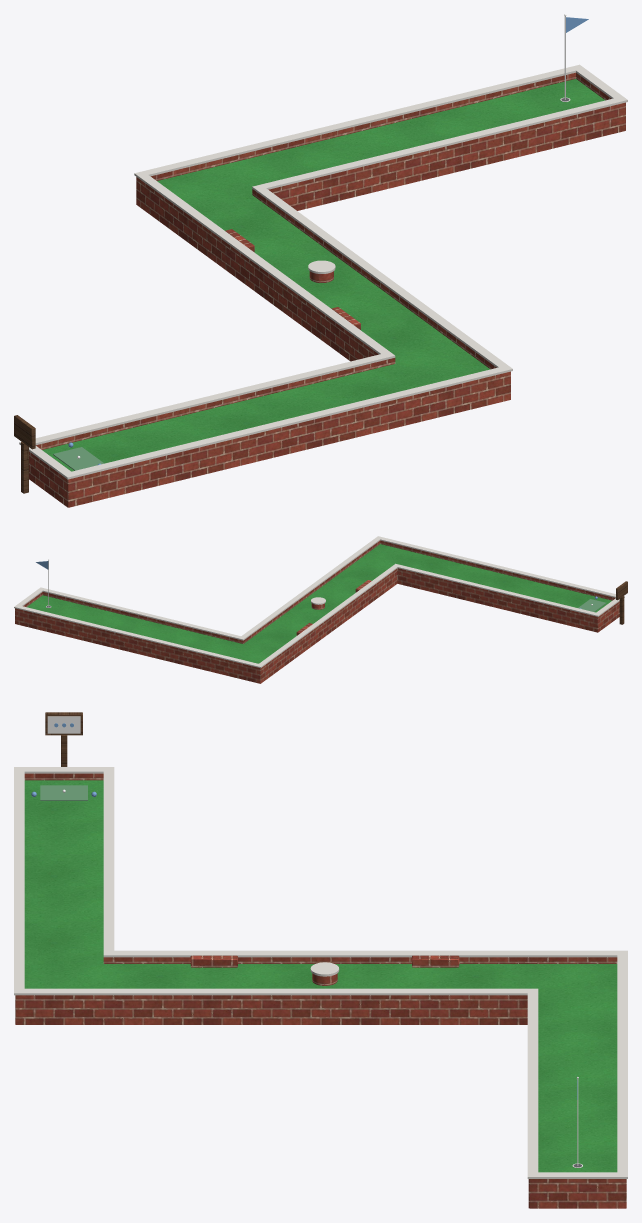
File: hole_3.glb
The picture shows the model from 3 angles, top to bottom: view 1: azimuth 30°, elevation 25°; view 2: azimuth 150°, elevation 25°; view 3: azimuth 270°, elevation 25°; orthographic projection. The views are drawn at different scales.
Parts seen in each view (by area): view 1: hole_3_brick, hole_3_turf, hole_3_coping, hole_3_dkwood, hole_3_tee_m; view 2: hole_3_brick, hole_3_turf, hole_3_coping, hole_3_dkwood; view 3: hole_3_turf, hole_3_brick, hole_3_coping, hole_3_paint_w, hole_3_tee_m.
Part boxes in pixels (<box>): hole_3_brick: <box>29,72,625,507</box>; hole_3_turf: <box>42,79,604,471</box>; hole_3_coping: <box>19,64,627,479</box>; hole_3_dkwood: <box>14,415,35,493</box>; hole_3_tee_m: <box>53,447,104,470</box>; hole_3_brick: <box>15,540,619,683</box>; hole_3_turf: <box>26,544,611,663</box>; hole_3_coping: <box>14,536,624,668</box>; hole_3_dkwood: <box>616,581,627,624</box>; hole_3_turf: <box>24,780,617,1172</box>; hole_3_brick: <box>15,773,626,1208</box>; hole_3_coping: <box>14,767,627,1178</box>; hole_3_paint_w: <box>47,716,582,1167</box>; hole_3_tee_m: <box>40,785,87,800</box>.
Bounding box in the file's own units: 12.59 × 1.57 × 7.77.
Materials: 10 (4 with a texture image).
